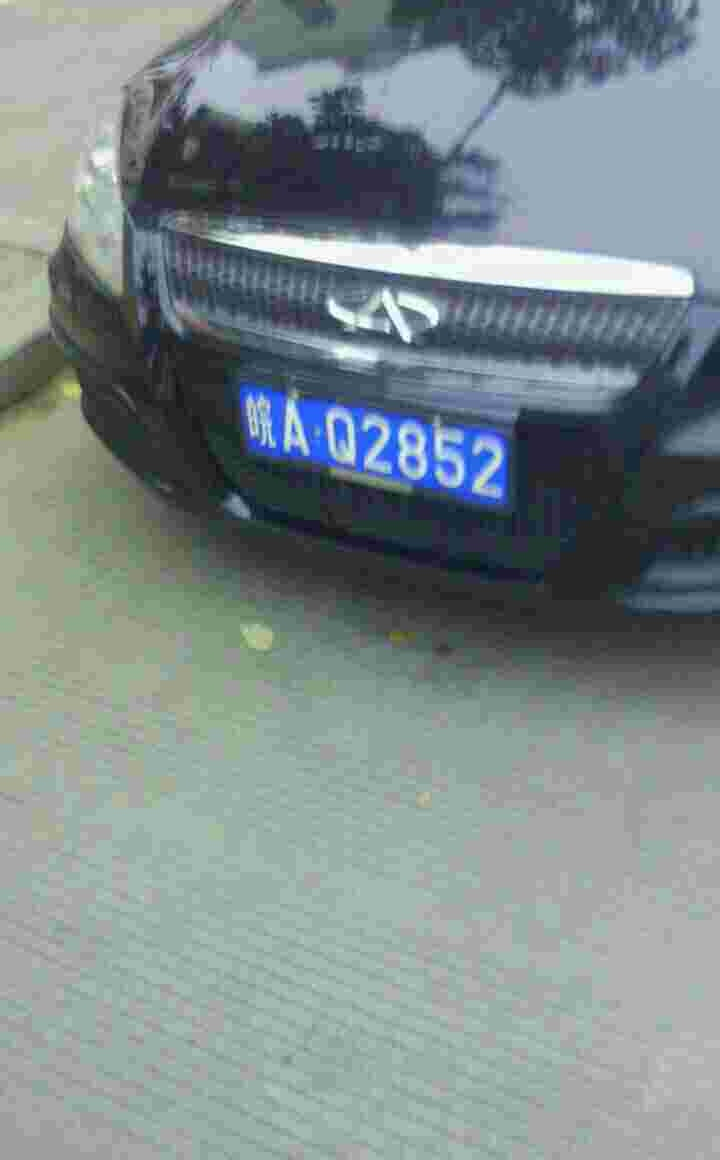license_plate: (236, 385, 507, 501)
